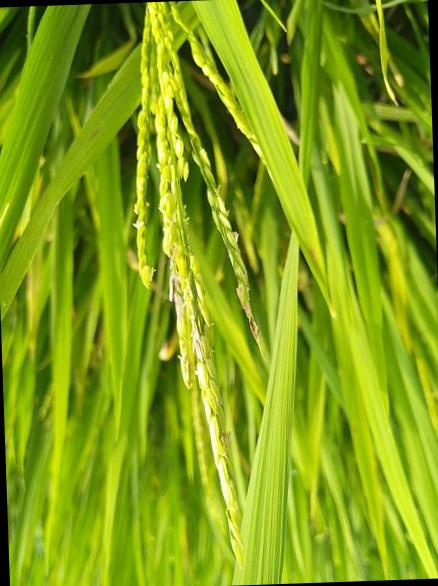Panicle Blight: (235, 272, 269, 361), (169, 262, 183, 324)
